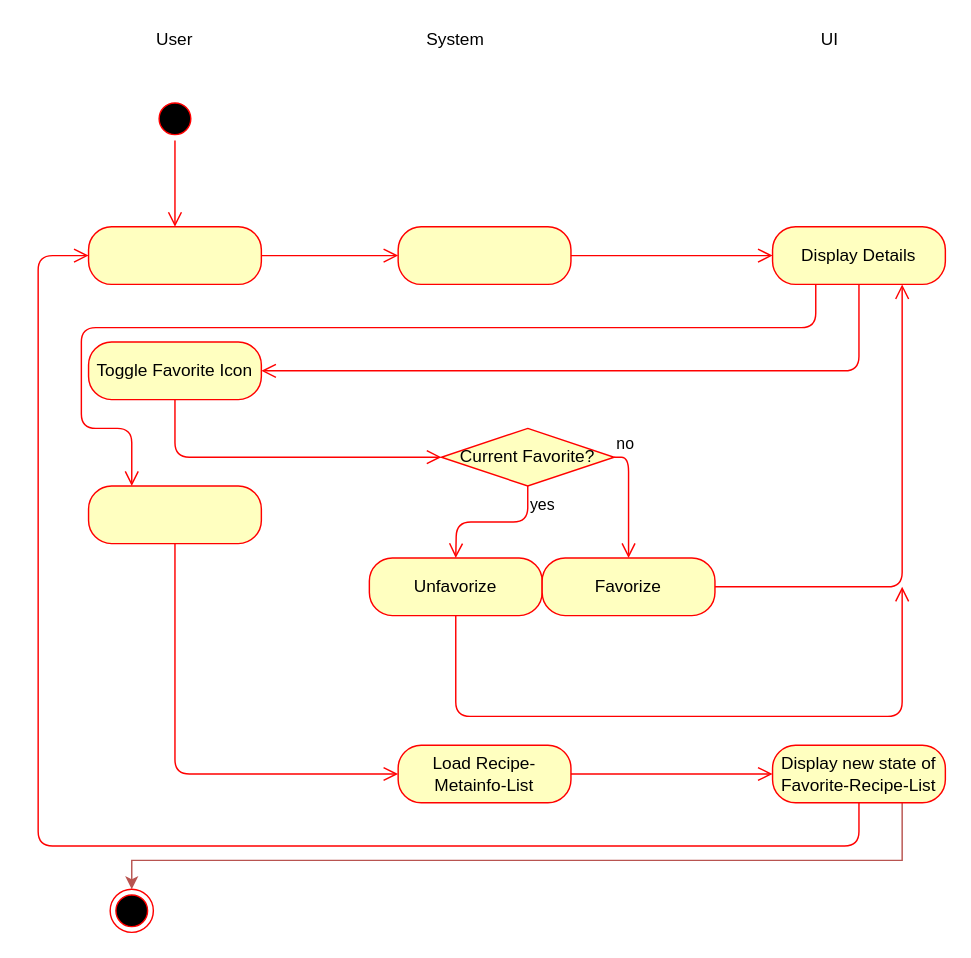
Image size: 971x958. Some labels were removed from this diagram. The centre of each missing label's shape, as x and y in pixels:
"Leave" belongs at pixel 174 514.
"Load Recipe Details" belongs at pixel 484 254.
"Select Recipe from Recipe-List" belongs at pixel 174 254.
